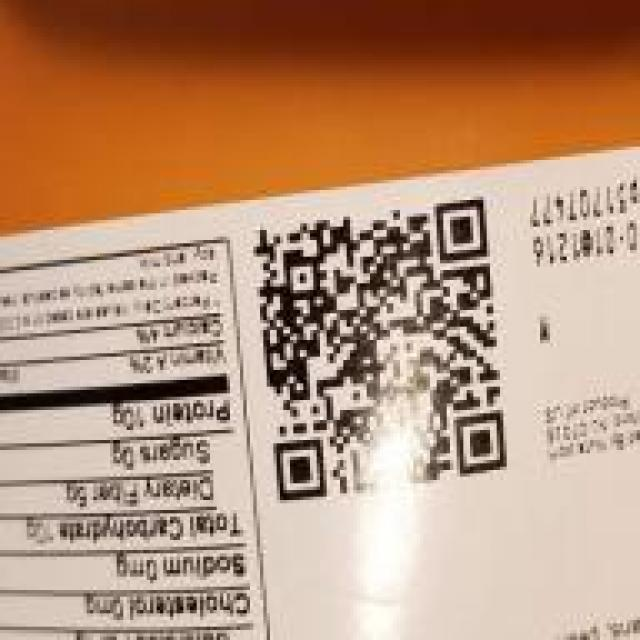QR_CODE: (242, 190, 523, 523)
